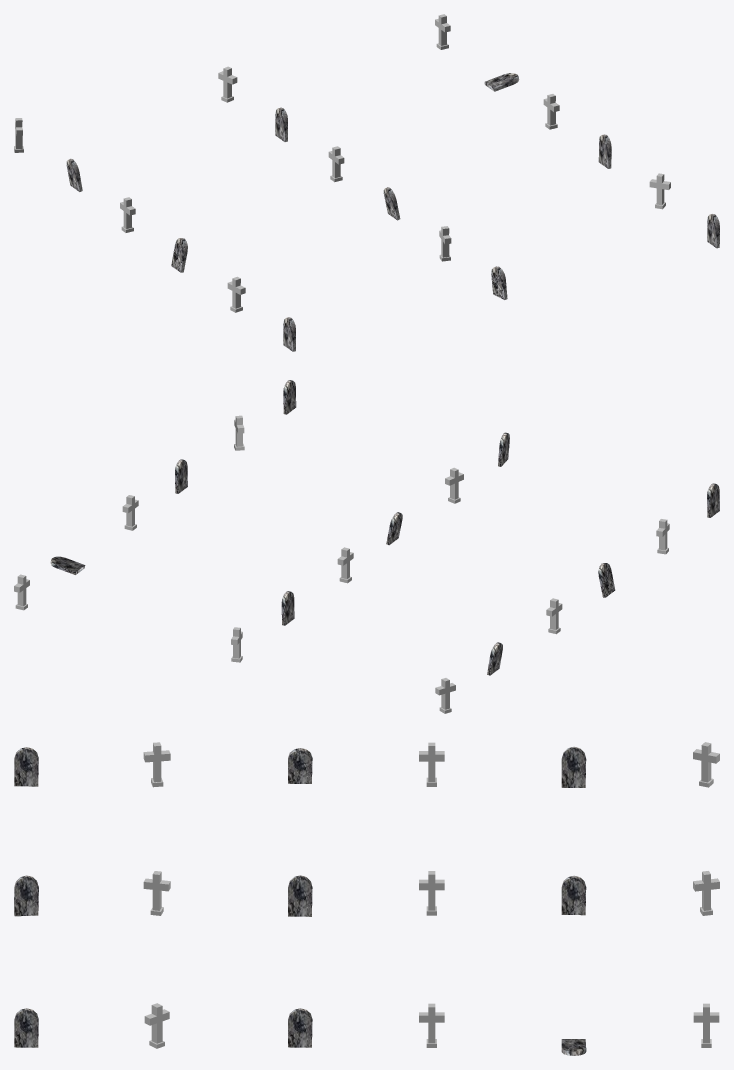
File: Tombes.FBX
3 renders of one model, top to bottom at view 1: azimuth 30°, elevation 25°; view 2: azimuth 150°, elevation 25°; view 3: azimuth 270°, elevation 25°, orthographic. The views are drawn at different scales.
Parts seen in each view (by area): view 1: tombe; view 2: tombe; view 3: tombe.
Part boxes in pixels (x1=…): tombe: x1=14, y1=14, x2=719, y2=351; tombe: x1=14, y1=380, x2=719, y2=713; tombe: x1=14, y1=742, x2=719, y2=1055.
Size of the model in its own units: 1256 by 86.58 by 1343.
